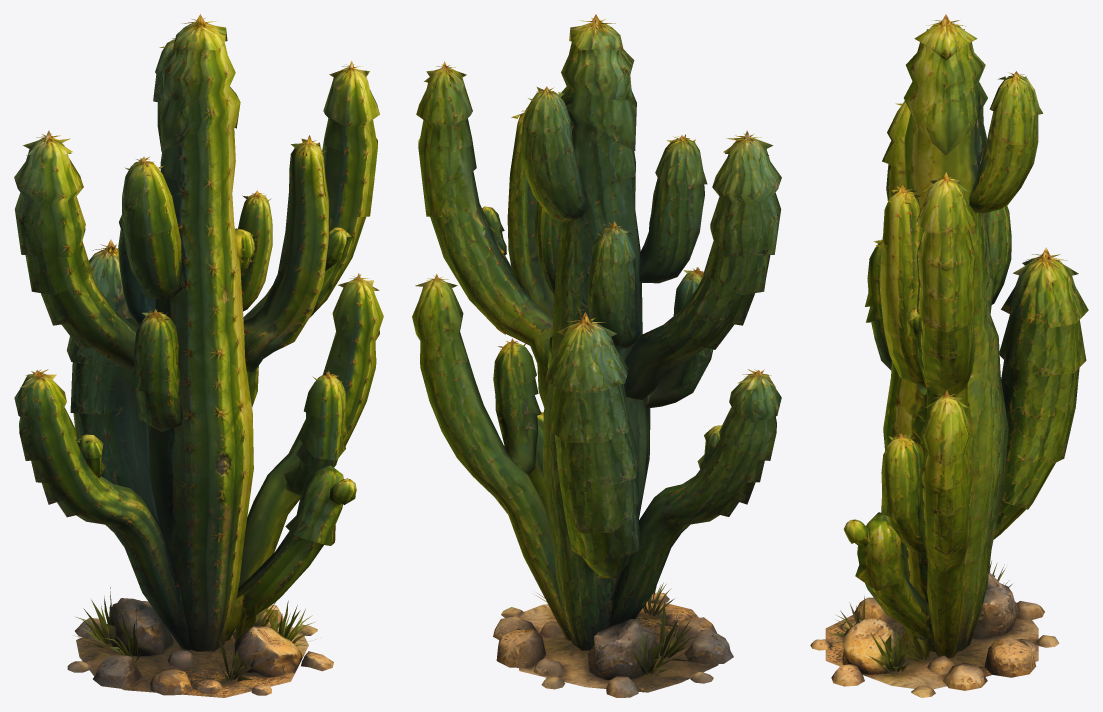
File: cactus+3d+model.fbx
3 views of the same model, side by side, from view 1: azimuth 30°, elevation 25°; view 2: azimuth 150°, elevation 25°; view 3: azimuth 270°, elevation 25° (orthographic).
Visible parts, largest first — view 1: tripo_21233a6f_b32f_431a_8a3e_53766c5f6b5d; view 2: tripo_21233a6f_b32f_431a_8a3e_53766c5f6b5d; view 3: tripo_21233a6f_b32f_431a_8a3e_53766c5f6b5d.
Part boxes in pixels (x1,y1,x2,y2): tripo_21233a6f_b32f_431a_8a3e_53766c5f6b5d: [14, 14, 383, 697]; tripo_21233a6f_b32f_431a_8a3e_53766c5f6b5d: [412, 14, 781, 697]; tripo_21233a6f_b32f_431a_8a3e_53766c5f6b5d: [810, 14, 1088, 697].
Size of the model in its own units: 0.6001 by 0.9995 by 0.3989.
